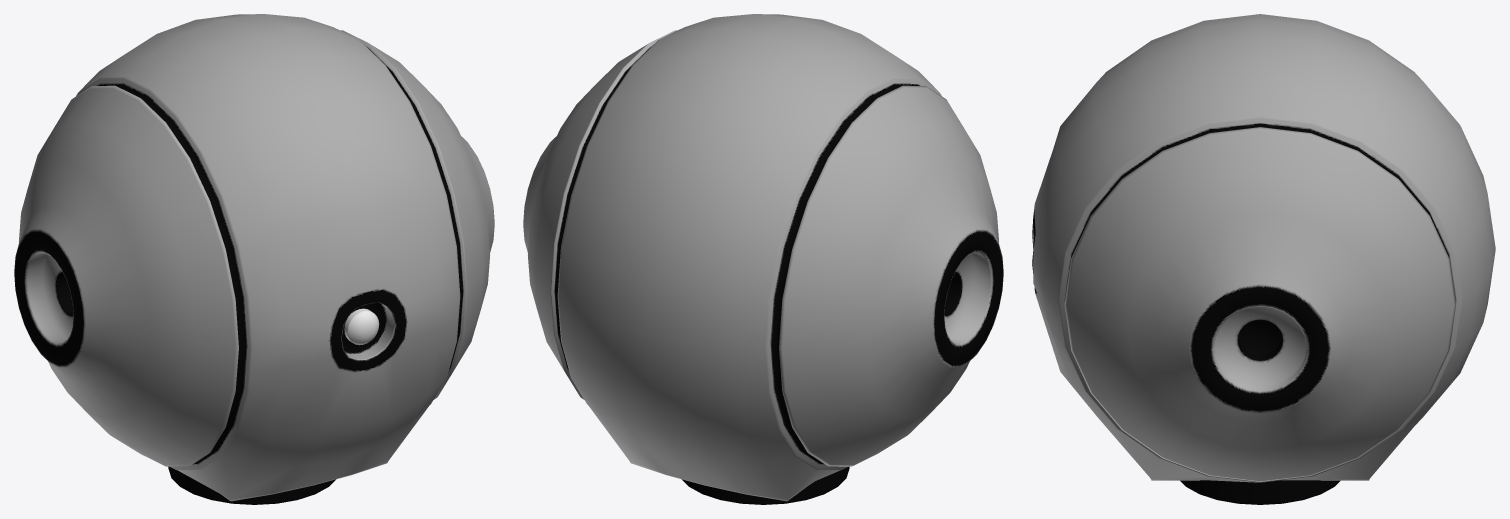
File: Drone.fbx
3 views of the same model, side by side, from view 1: azimuth 30°, elevation 25°; view 2: azimuth 150°, elevation 25°; view 3: azimuth 270°, elevation 25° (orthographic).
Visible parts, largest first — view 1: Drone; view 2: Drone; view 3: Drone.
Boxes of the visible parts, <box> form: Drone: <box>14,14,494,504</box>; Drone: <box>523,14,1003,504</box>; Drone: <box>1032,14,1495,504</box>.
Size of the model in its own units: 201 by 203 by 197.
Materials: 2 (1 with a texture image).
